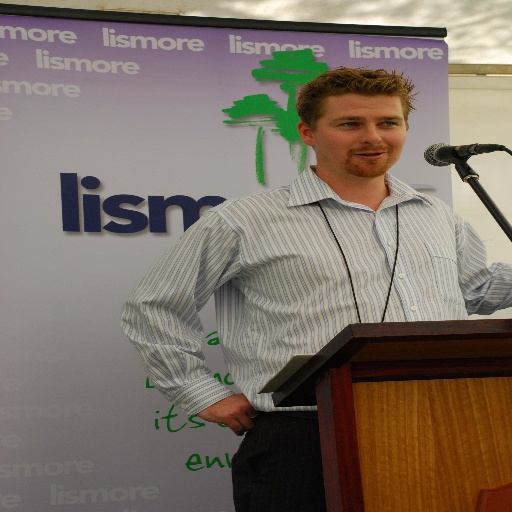hand: (205, 392, 265, 438)
